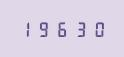nine: (35, 20, 51, 37)
one: (18, 20, 34, 37)
six: (52, 20, 68, 37)
three: (69, 20, 85, 37)
zero: (86, 20, 102, 37)
